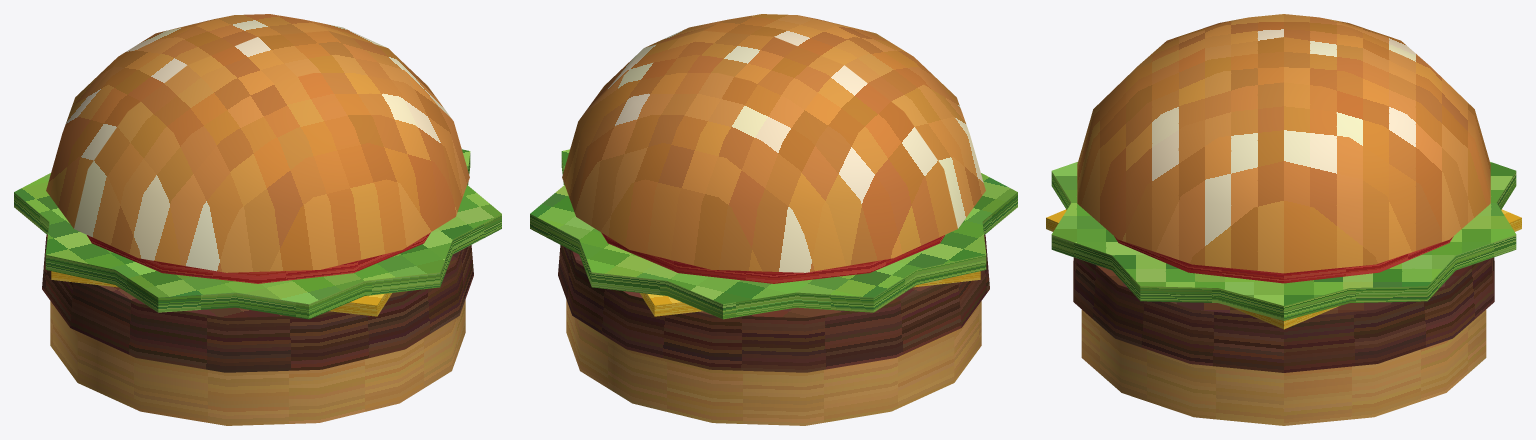
The model's file is food_burger.glb.
3 renders of one model, left to right at view 1: azimuth 30°, elevation 25°; view 2: azimuth 150°, elevation 25°; view 3: azimuth 270°, elevation 25°, orthographic.
Visible parts, largest first — view 1: Food_Burger; view 2: Food_Burger; view 3: Food_Burger.
Part boxes in pixels (x1,y1,x2,y2): Food_Burger: (14, 14, 501, 425); Food_Burger: (530, 14, 1017, 425); Food_Burger: (1046, 14, 1521, 425).
Bounding box in the file's own units: 1 × 0.6797 × 0.9732.
1 material, 1 textured.
